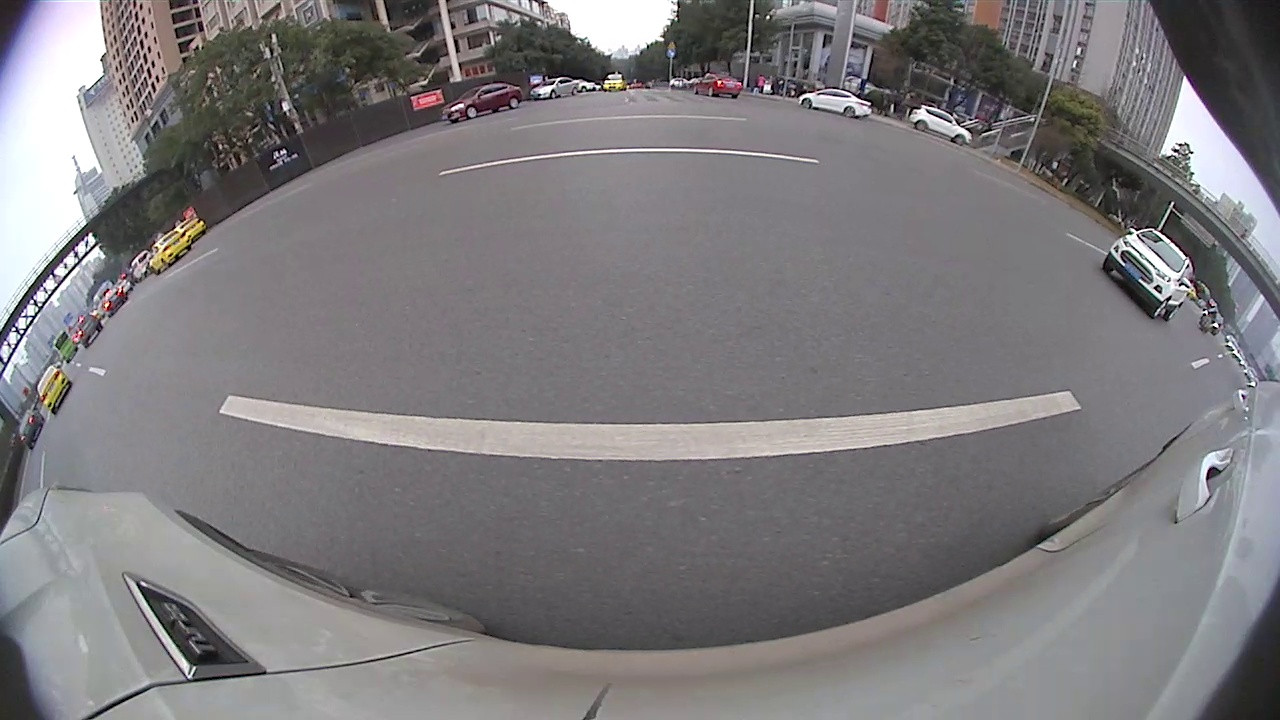car: (1101, 227, 1196, 322), (440, 80, 524, 124), (909, 103, 972, 148), (800, 86, 875, 119), (148, 230, 192, 278), (35, 363, 73, 414), (694, 70, 743, 100), (530, 76, 585, 100), (18, 407, 45, 449)
front: (1150, 299, 1170, 318), (466, 108, 477, 119), (953, 134, 963, 145), (802, 98, 810, 107)
rear: (1164, 305, 1182, 321), (917, 119, 927, 131), (510, 99, 519, 109), (845, 106, 853, 115)
